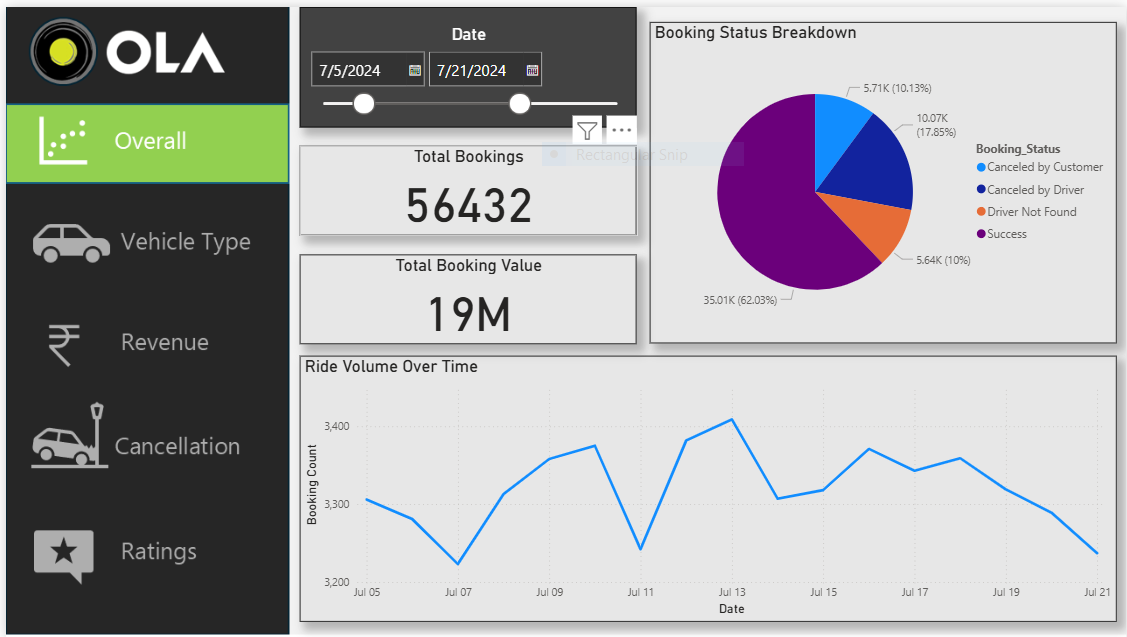

Layout of this report page (visuals, bound fields, positions):
{"tool":"powerbi","page":{"name":"Overall","canvas":[1280,720],"ordinal":0},"visuals":[{"type":"actionButton","box":[0,224.3,325.7,92.9],"z":0},{"type":"actionButton","box":[0,338.6,325.7,92.9],"z":1000},{"type":"actionButton","box":[0,445.7,325.7,92.9],"z":2000},{"type":"actionButton","box":[0,577.1,325.7,92.9],"z":3000},{"type":"lineChart","title":"Ride Volume Over Time","fields":{"Category":["July (2).Date"],"Y":["CountNonNull(July (2).Booking_ID)"]},"box":[336.2,398.8,933.8,303.8],"z":4000},{"type":"pieChart","title":"Booking Status Breakdown","fields":{"Category":["July (2).Booking_Status","July (2).Date"],"Y":["CountNonNull(July (2).Booking_Status)"]},"box":[736.2,17.5,533.8,367.5],"z":5000},{"type":"slicer","title":"Date","fields":{"Values":["July (2).Date"]},"box":[336.2,0,385,137.5],"z":6000},{"type":"card","title":"Total Bookings","fields":{"Values":["CountNonNull(July (2).Booking_ID)"]},"box":[336.2,158.8,385,102.5],"z":7000},{"type":"card","title":"Total Booking Value","fields":{"Values":["Sum(July (2).Booking_Value)"]},"box":[336.2,282.5,385,102.5],"z":8000}]}

Visuals, with their boxes in screenshot pixels (x1, y1, x2, y2), scaled from the page's 1280x720 canvas onto the 1127x637 screenshot:
actionButton: (0,198,287,281)
actionButton: (0,300,287,382)
actionButton: (0,394,287,477)
actionButton: (0,511,287,593)
"Ride Volume Over Time" lineChart: (296,353,1118,622)
"Booking Status Breakdown" pieChart: (648,15,1118,341)
"Date" slicer: (296,0,635,122)
"Total Bookings" card: (296,140,635,231)
"Total Booking Value" card: (296,250,635,341)
